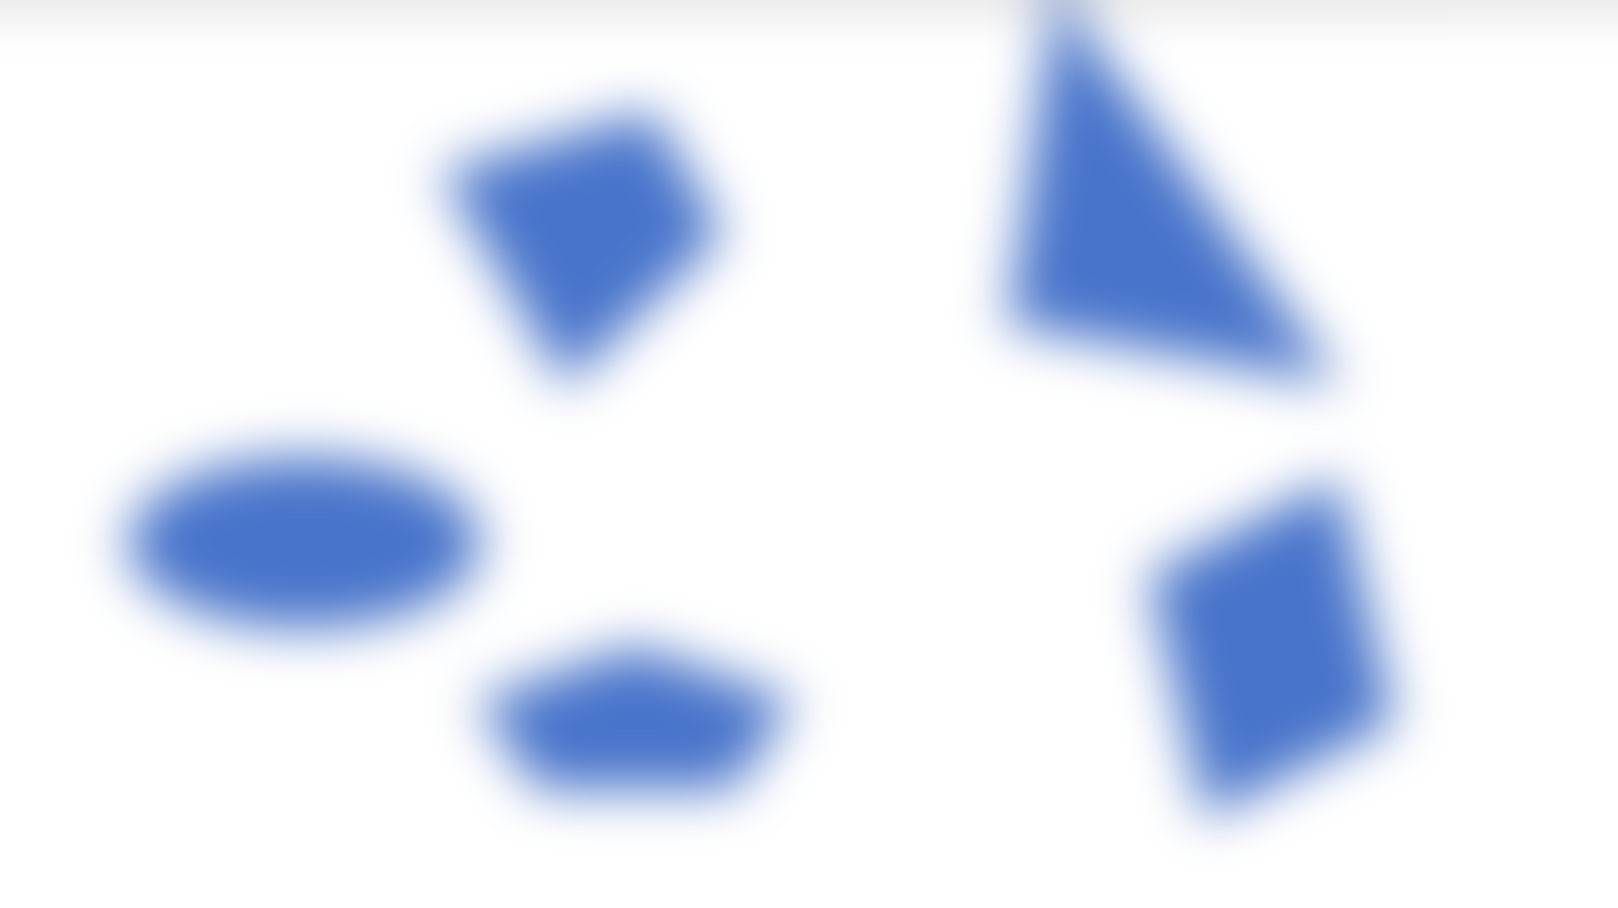circle: (101, 425, 526, 656)
parallelogram: (1133, 465, 1429, 841)
pentagon: (470, 609, 827, 834)
trapezium: (433, 69, 751, 375)
triangle: (926, 3, 1398, 428)
